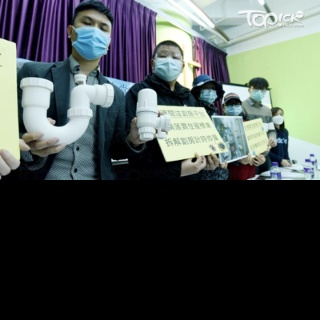with_mask: (73, 13, 112, 59), (153, 48, 184, 81), (200, 85, 218, 105), (250, 85, 266, 103), (224, 101, 241, 116), (272, 111, 284, 126)
